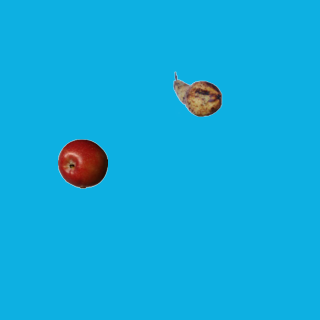Apple Braeburn: (57, 138, 107, 188)
Pear Abate: (172, 69, 222, 119)
